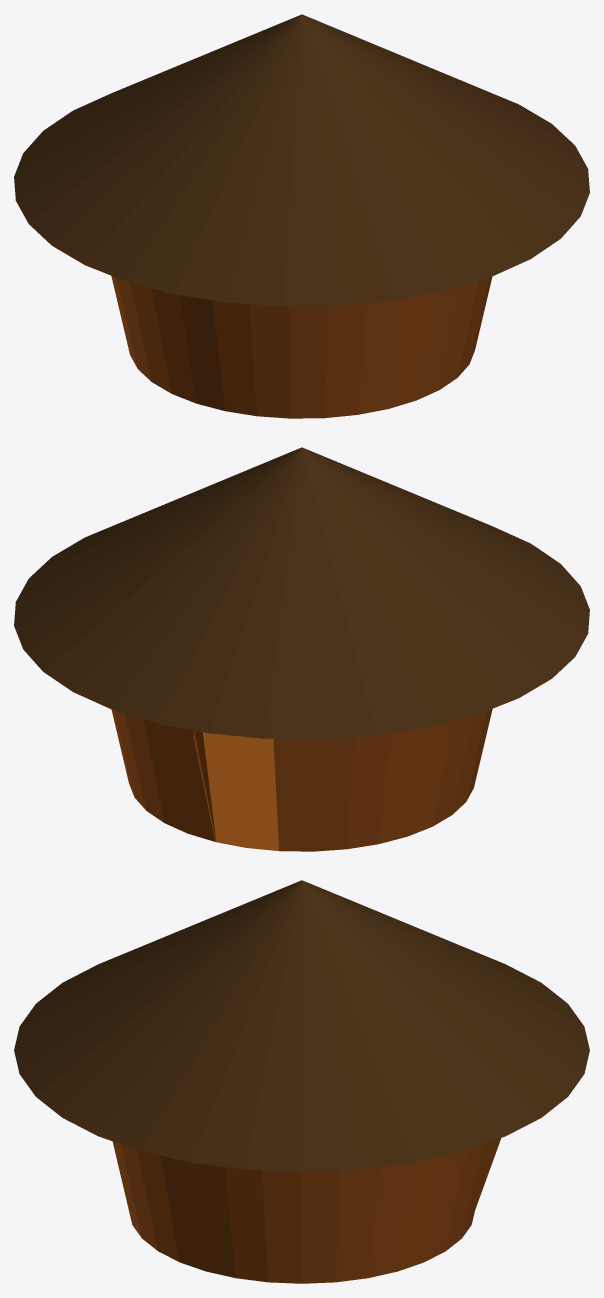
File: afrikaanshuis.fbx
3 views of the same model, one above another, from view 1: azimuth 30°, elevation 25°; view 2: azimuth 150°, elevation 25°; view 3: azimuth 270°, elevation 25° (orthographic).
Parts seen in each view (by area): view 1: Cone; view 2: Cone; view 3: Cone.
Part boxes in pixels (x1=…): Cone: x1=14, y1=14, x2=589, y2=418; Cone: x1=14, y1=447, x2=589, y2=851; Cone: x1=14, y1=880, x2=589, y2=1283.
Size of the model in its own units: 1466 by 928 by 1466.
